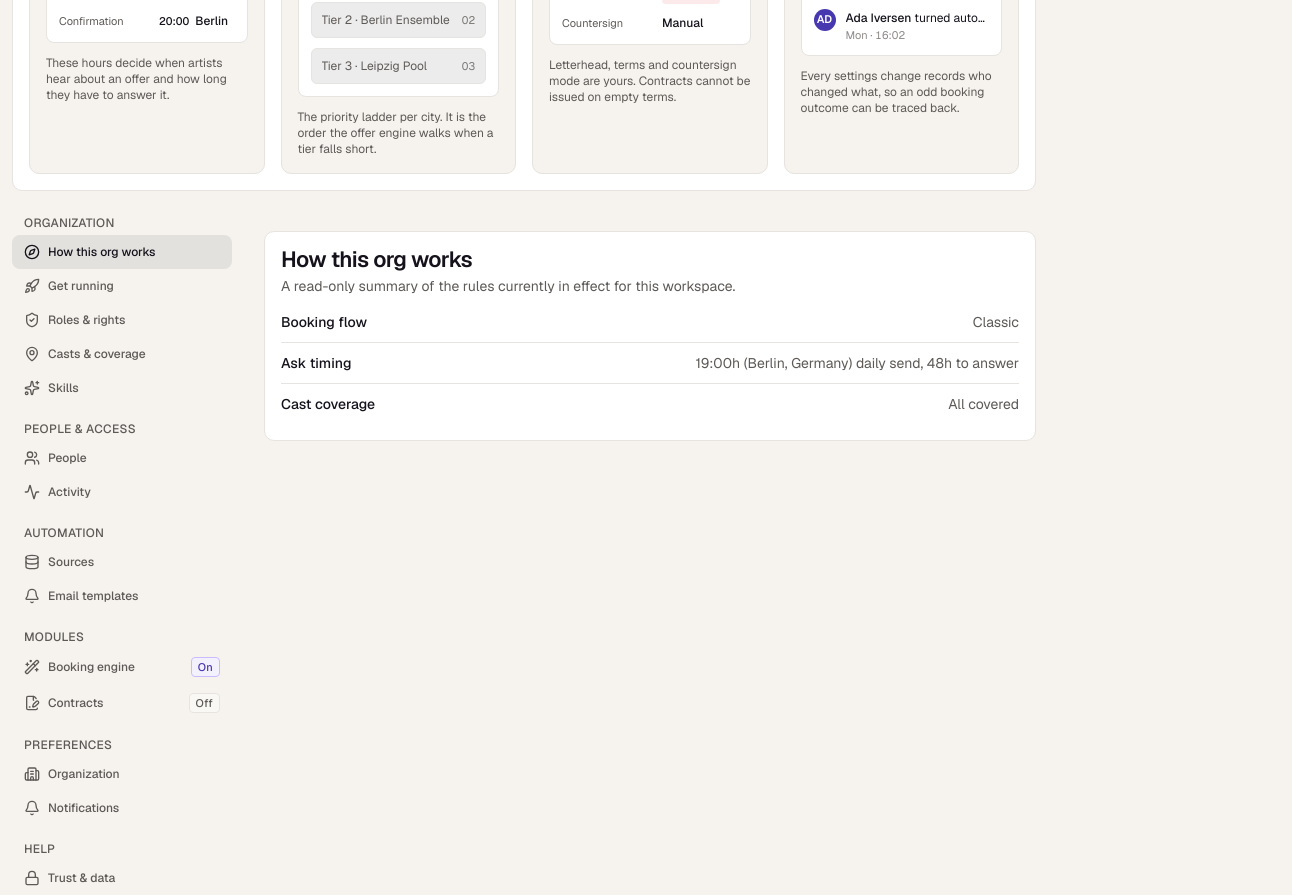
Test: SettingsPage content measure › keeps the reading measure for form tabs and drops it for Trust & data
(page scrolled)
Press the mouse on the tab "Trust & data" at point(122, 878), box [12,861,232,894]
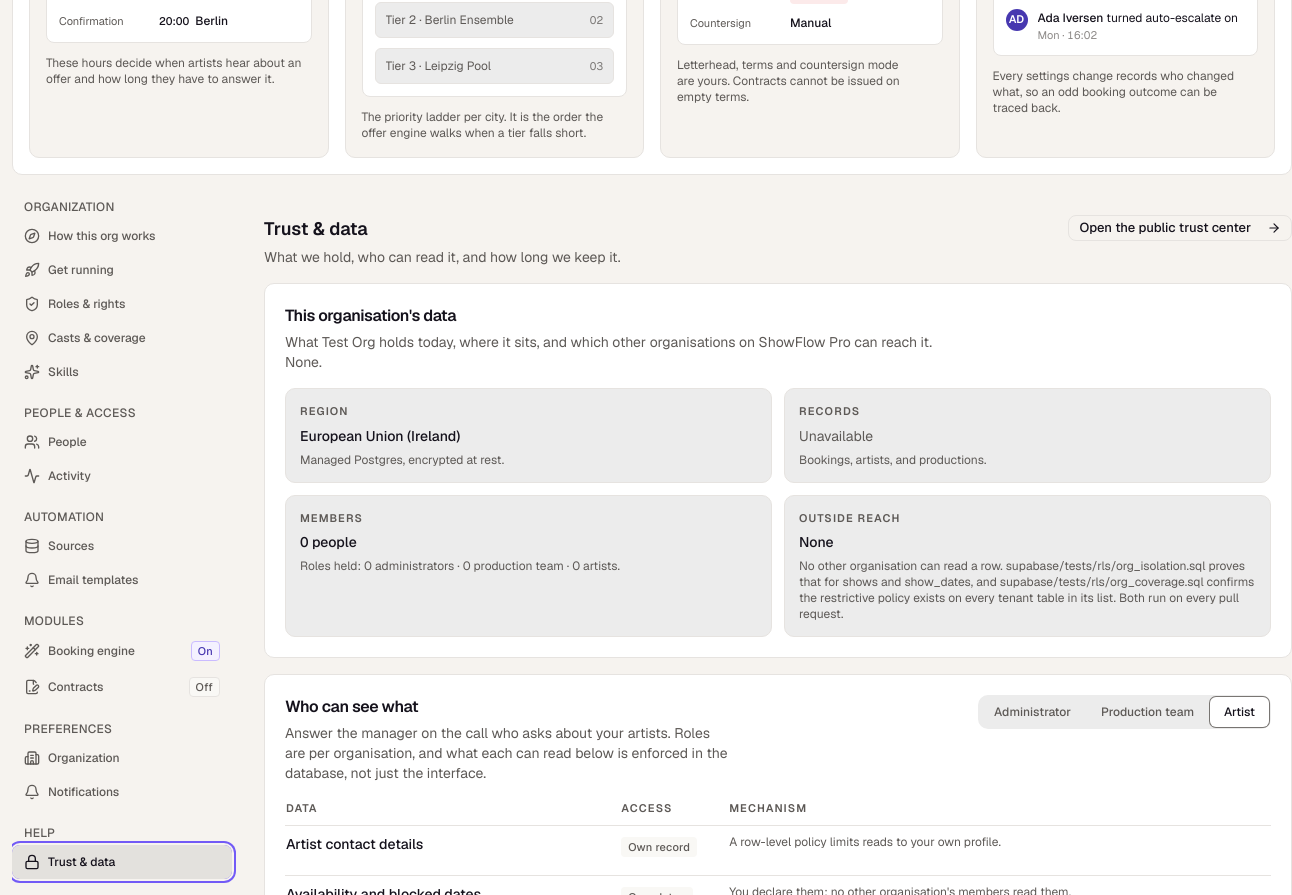
Result: the tab "Trust & data" is selected at [12,845,232,879]
